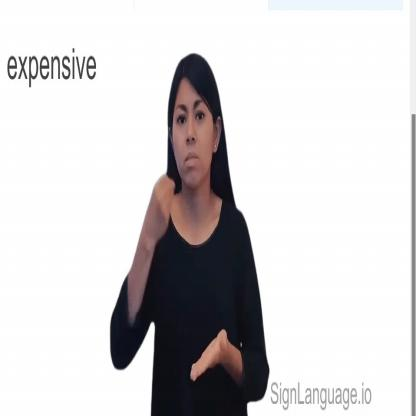Expensive: (128, 156, 248, 416)
